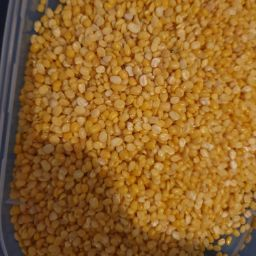Red Split Lentils(malka masar): (35, 7, 249, 255), (104, 58, 251, 243), (57, 54, 197, 226)
